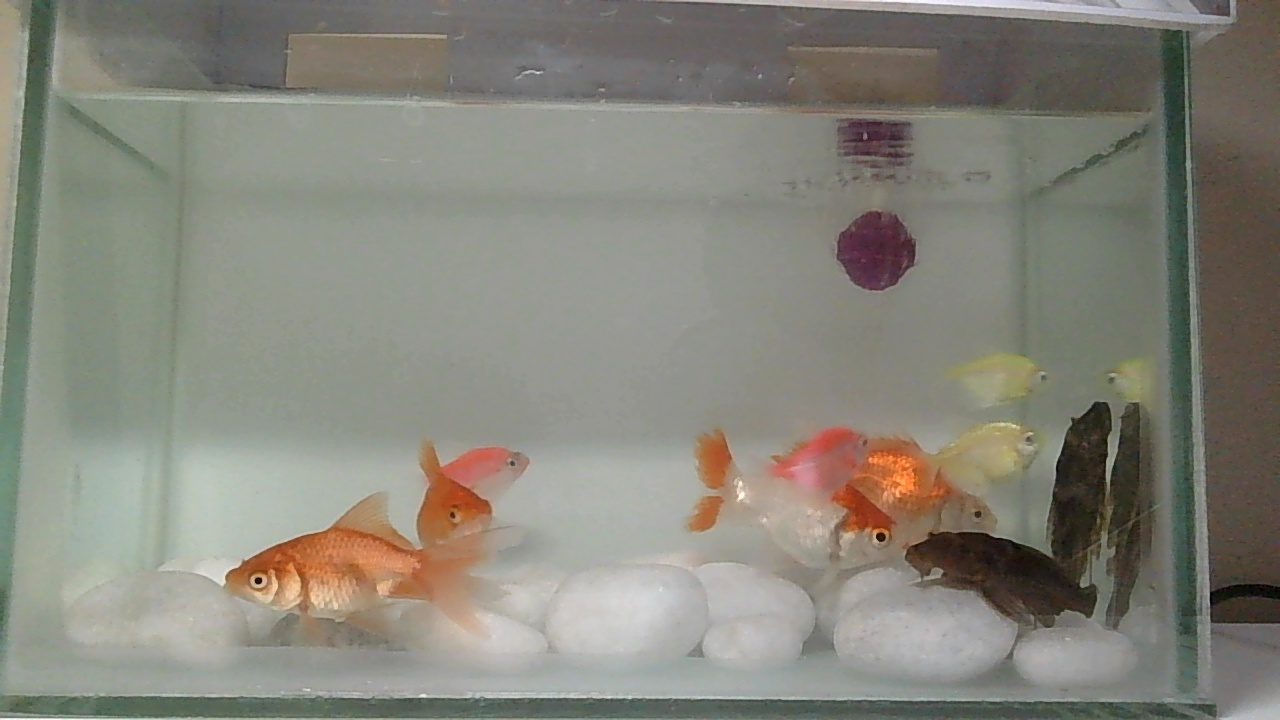fish: (921, 416, 1068, 555), (906, 524, 1094, 625), (418, 441, 532, 521), (831, 205, 920, 295), (937, 348, 1047, 407), (683, 424, 735, 532)
